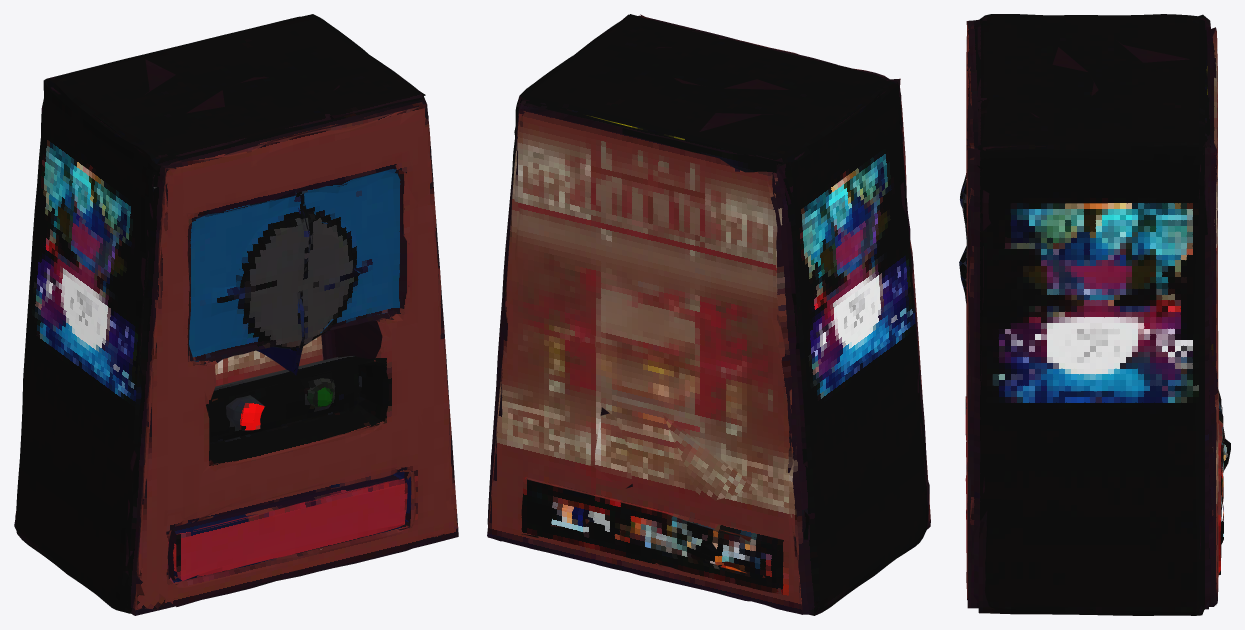
File: Arcade_BladeSweep_QuadRetro.glb
3 renders of one model, left to right at view 1: azimuth 30°, elevation 25°; view 2: azimuth 150°, elevation 25°; view 3: azimuth 270°, elevation 25°, orthographic.
Visible parts, largest first — view 1: Arcade_BladeSweep_QuadRemesh; view 2: Arcade_BladeSweep_QuadRemesh; view 3: Arcade_BladeSweep_QuadRemesh.
Boxes of the visible parts, box(x1,y1,x2,y2) form: Arcade_BladeSweep_QuadRemesh: box(14, 14, 458, 615); Arcade_BladeSweep_QuadRemesh: box(487, 14, 930, 615); Arcade_BladeSweep_QuadRemesh: box(959, 14, 1230, 615).
Size of the model in its own units: 1.55 by 2 by 1.08.
1 material, 1 textured.
